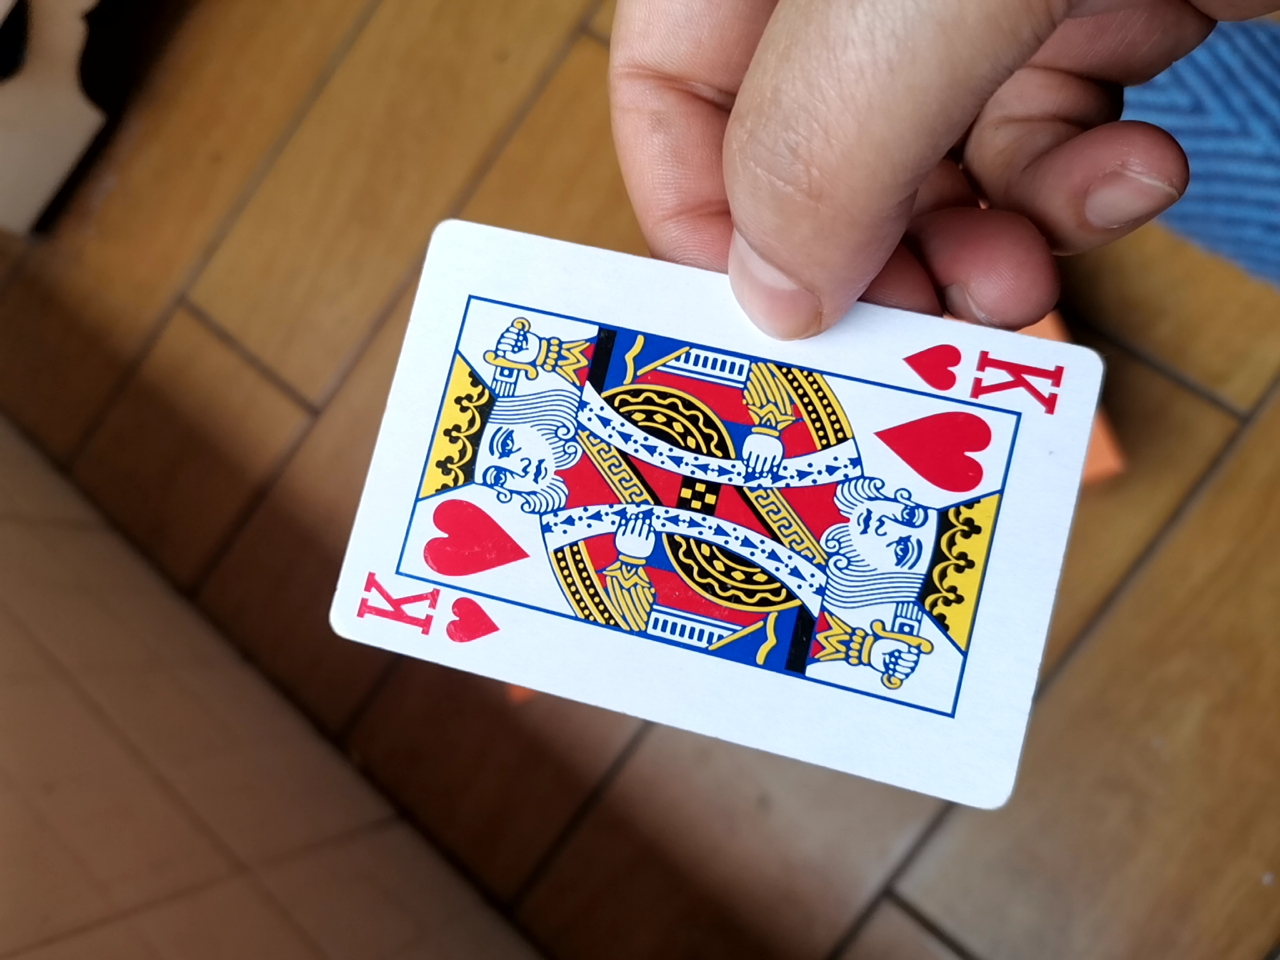hx k: (309, 214, 1099, 819)
